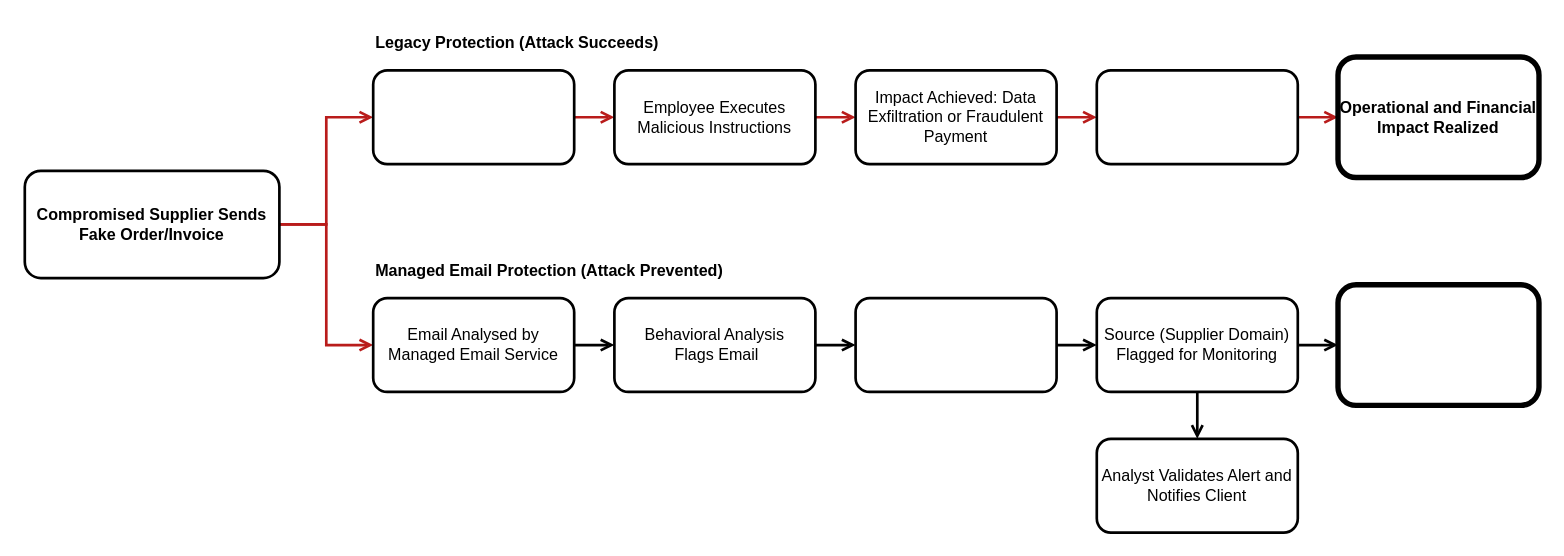
Some shapes in this 1564 by 556 pixel diagram are drawn without their labels. The shapes that lost their labels are listed below. From the top down, each one's centre as x and y in pixels, then its label:
At (x=473, y=116): "Legacy filters allow email through".
At (x=1196, y=116): "IT / SOC reacts post-compromise".
At (x=955, y=344): "Automated Quarantining & Mitigation".
At (x=1438, y=344): "Zero Business Impact Achieved".
